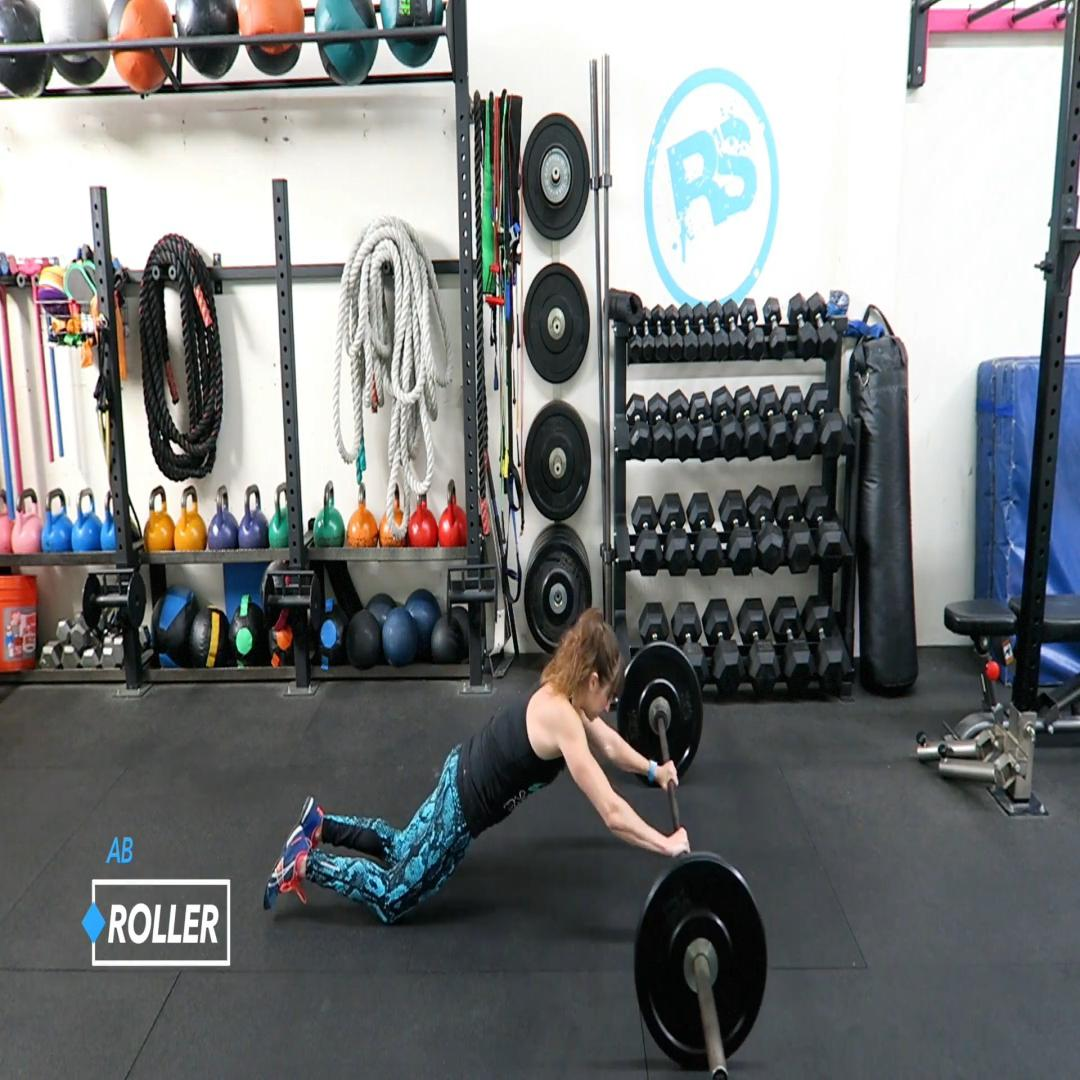Barbell: (634, 859, 768, 1071)
